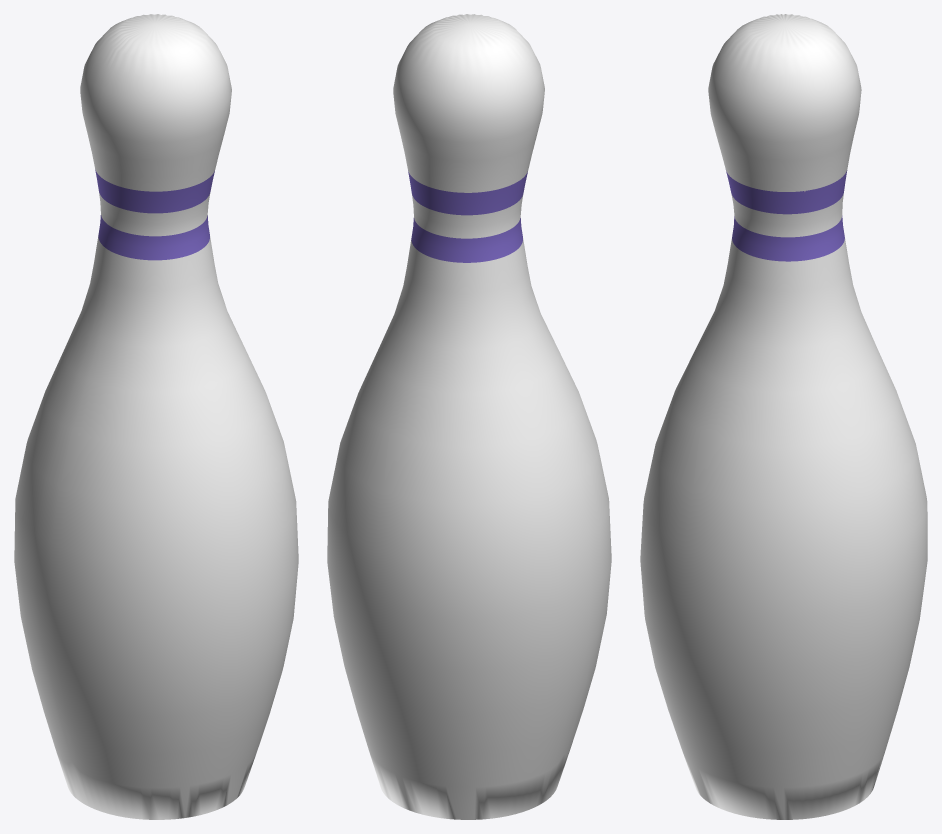
Rendered from Purple Bowling pin.fbx.
The picture shows the model from 3 angles, left to right: view 1: azimuth 30°, elevation 25°; view 2: azimuth 150°, elevation 25°; view 3: azimuth 270°, elevation 25°; orthographic projection.
Visible parts, largest first — view 1: Purple PIn; view 2: Purple PIn; view 3: Purple PIn.
Part boxes in pixels (box(x1,y1,x2,y2)): Purple PIn: box(14, 14, 298, 819); Purple PIn: box(327, 14, 611, 819); Purple PIn: box(640, 14, 927, 819).
Bounding box in the file's own units: 131 × 387 × 133.
Materials: 1 (1 with a texture image).
